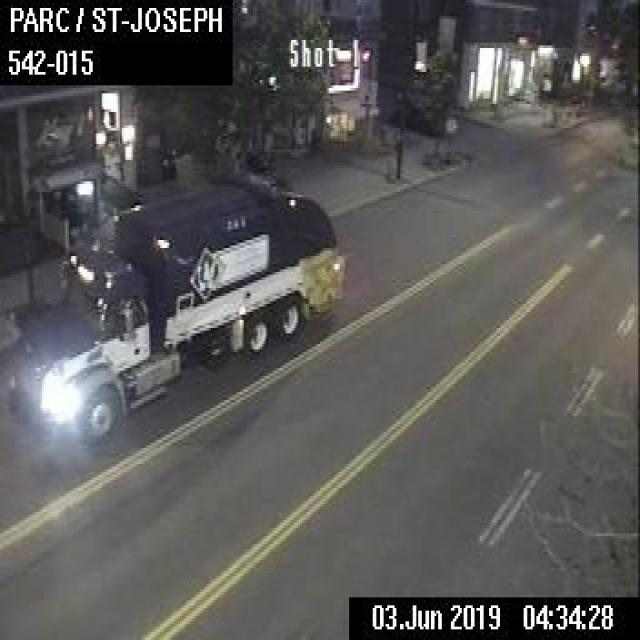vehicle: (6, 178, 343, 450), (392, 90, 455, 134)
